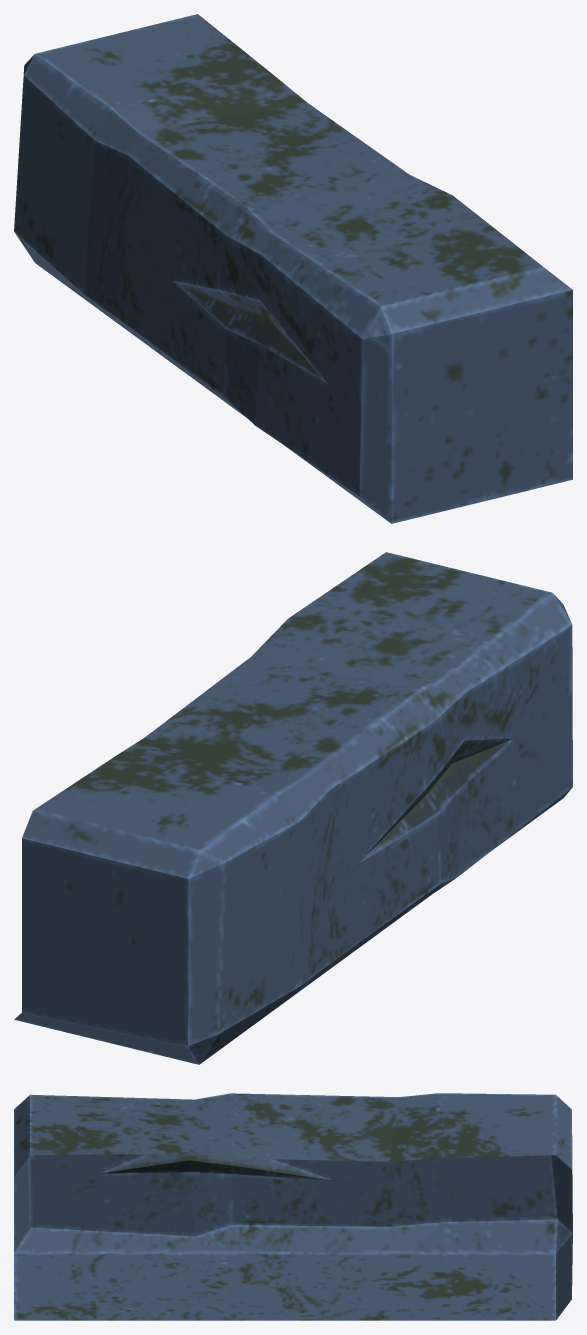
The model's file is Cegla_3.fbx.
3 views of the same model, one above another, from view 1: azimuth 30°, elevation 25°; view 2: azimuth 150°, elevation 25°; view 3: azimuth 270°, elevation 25° (orthographic). The views are drawn at different scales.
Visible parts, largest first — view 1: Cegla_3; view 2: Cegla_3; view 3: Cegla_3.
Part boxes in pixels (<box>): Cegla_3: <box>14,14,572,523</box>; Cegla_3: <box>14,552,572,1064</box>; Cegla_3: <box>14,1093,572,1320</box>.
Bounding box in the file's own units: 207 × 203 × 638.
